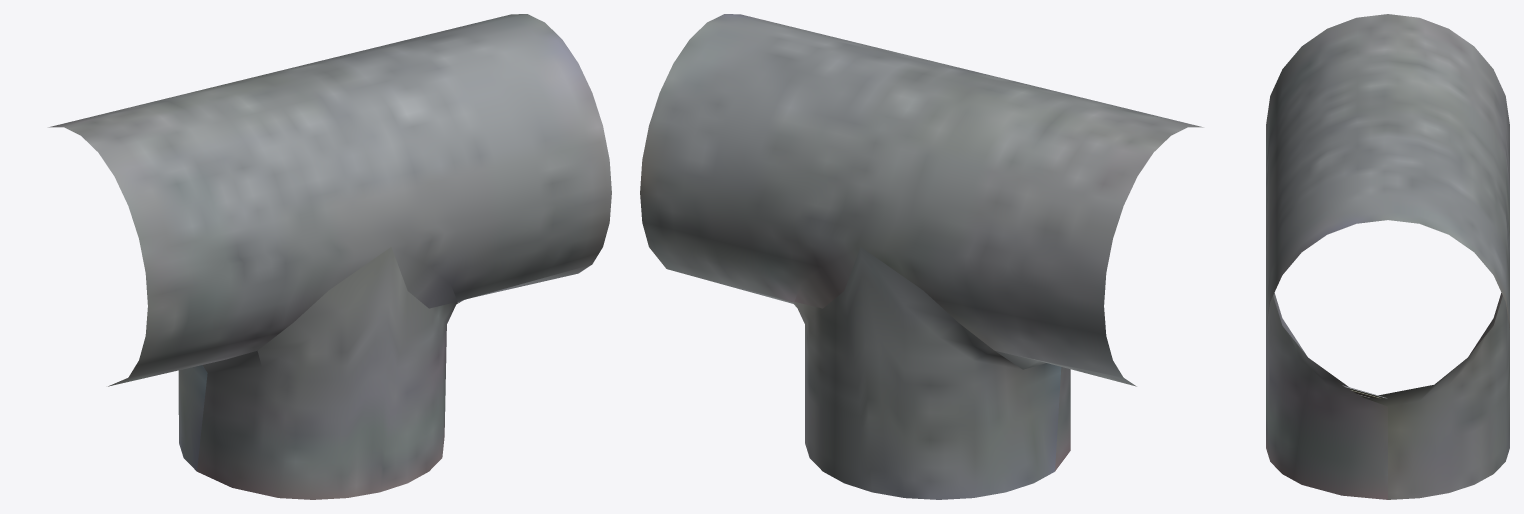
File: modular-pipes-tee.glb
3 views of the same model, side by side, from view 1: azimuth 30°, elevation 25°; view 2: azimuth 150°, elevation 25°; view 3: azimuth 270°, elevation 25° (orthographic). The views are drawn at different scales.
Parts seen in each view (by area): view 1: modular_pipes_tee; view 2: modular_pipes_tee; view 3: modular_pipes_tee.
Boxes of the visible parts, box(x1,y1,x2,y2) form: modular_pipes_tee: box(48, 14, 611, 499); modular_pipes_tee: box(640, 14, 1203, 499); modular_pipes_tee: box(1266, 14, 1509, 499).
Size of the model in its own units: 0.2 by 0.15 by 0.1.
Materials: 1 (1 with a texture image).
